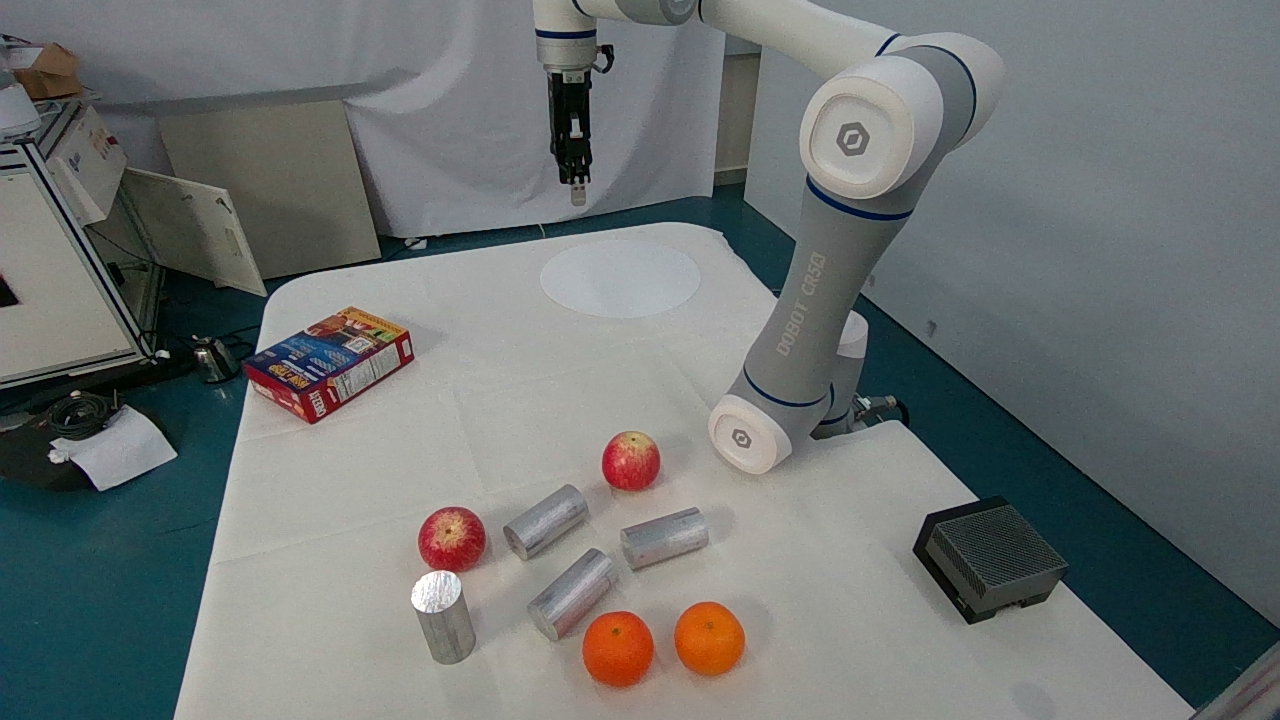apple: (403, 495, 492, 568), (595, 422, 670, 501)
metal rod: (396, 568, 497, 665), (520, 548, 623, 641), (501, 477, 598, 559), (612, 501, 717, 576)
orange: (670, 594, 753, 676), (584, 607, 655, 688)
